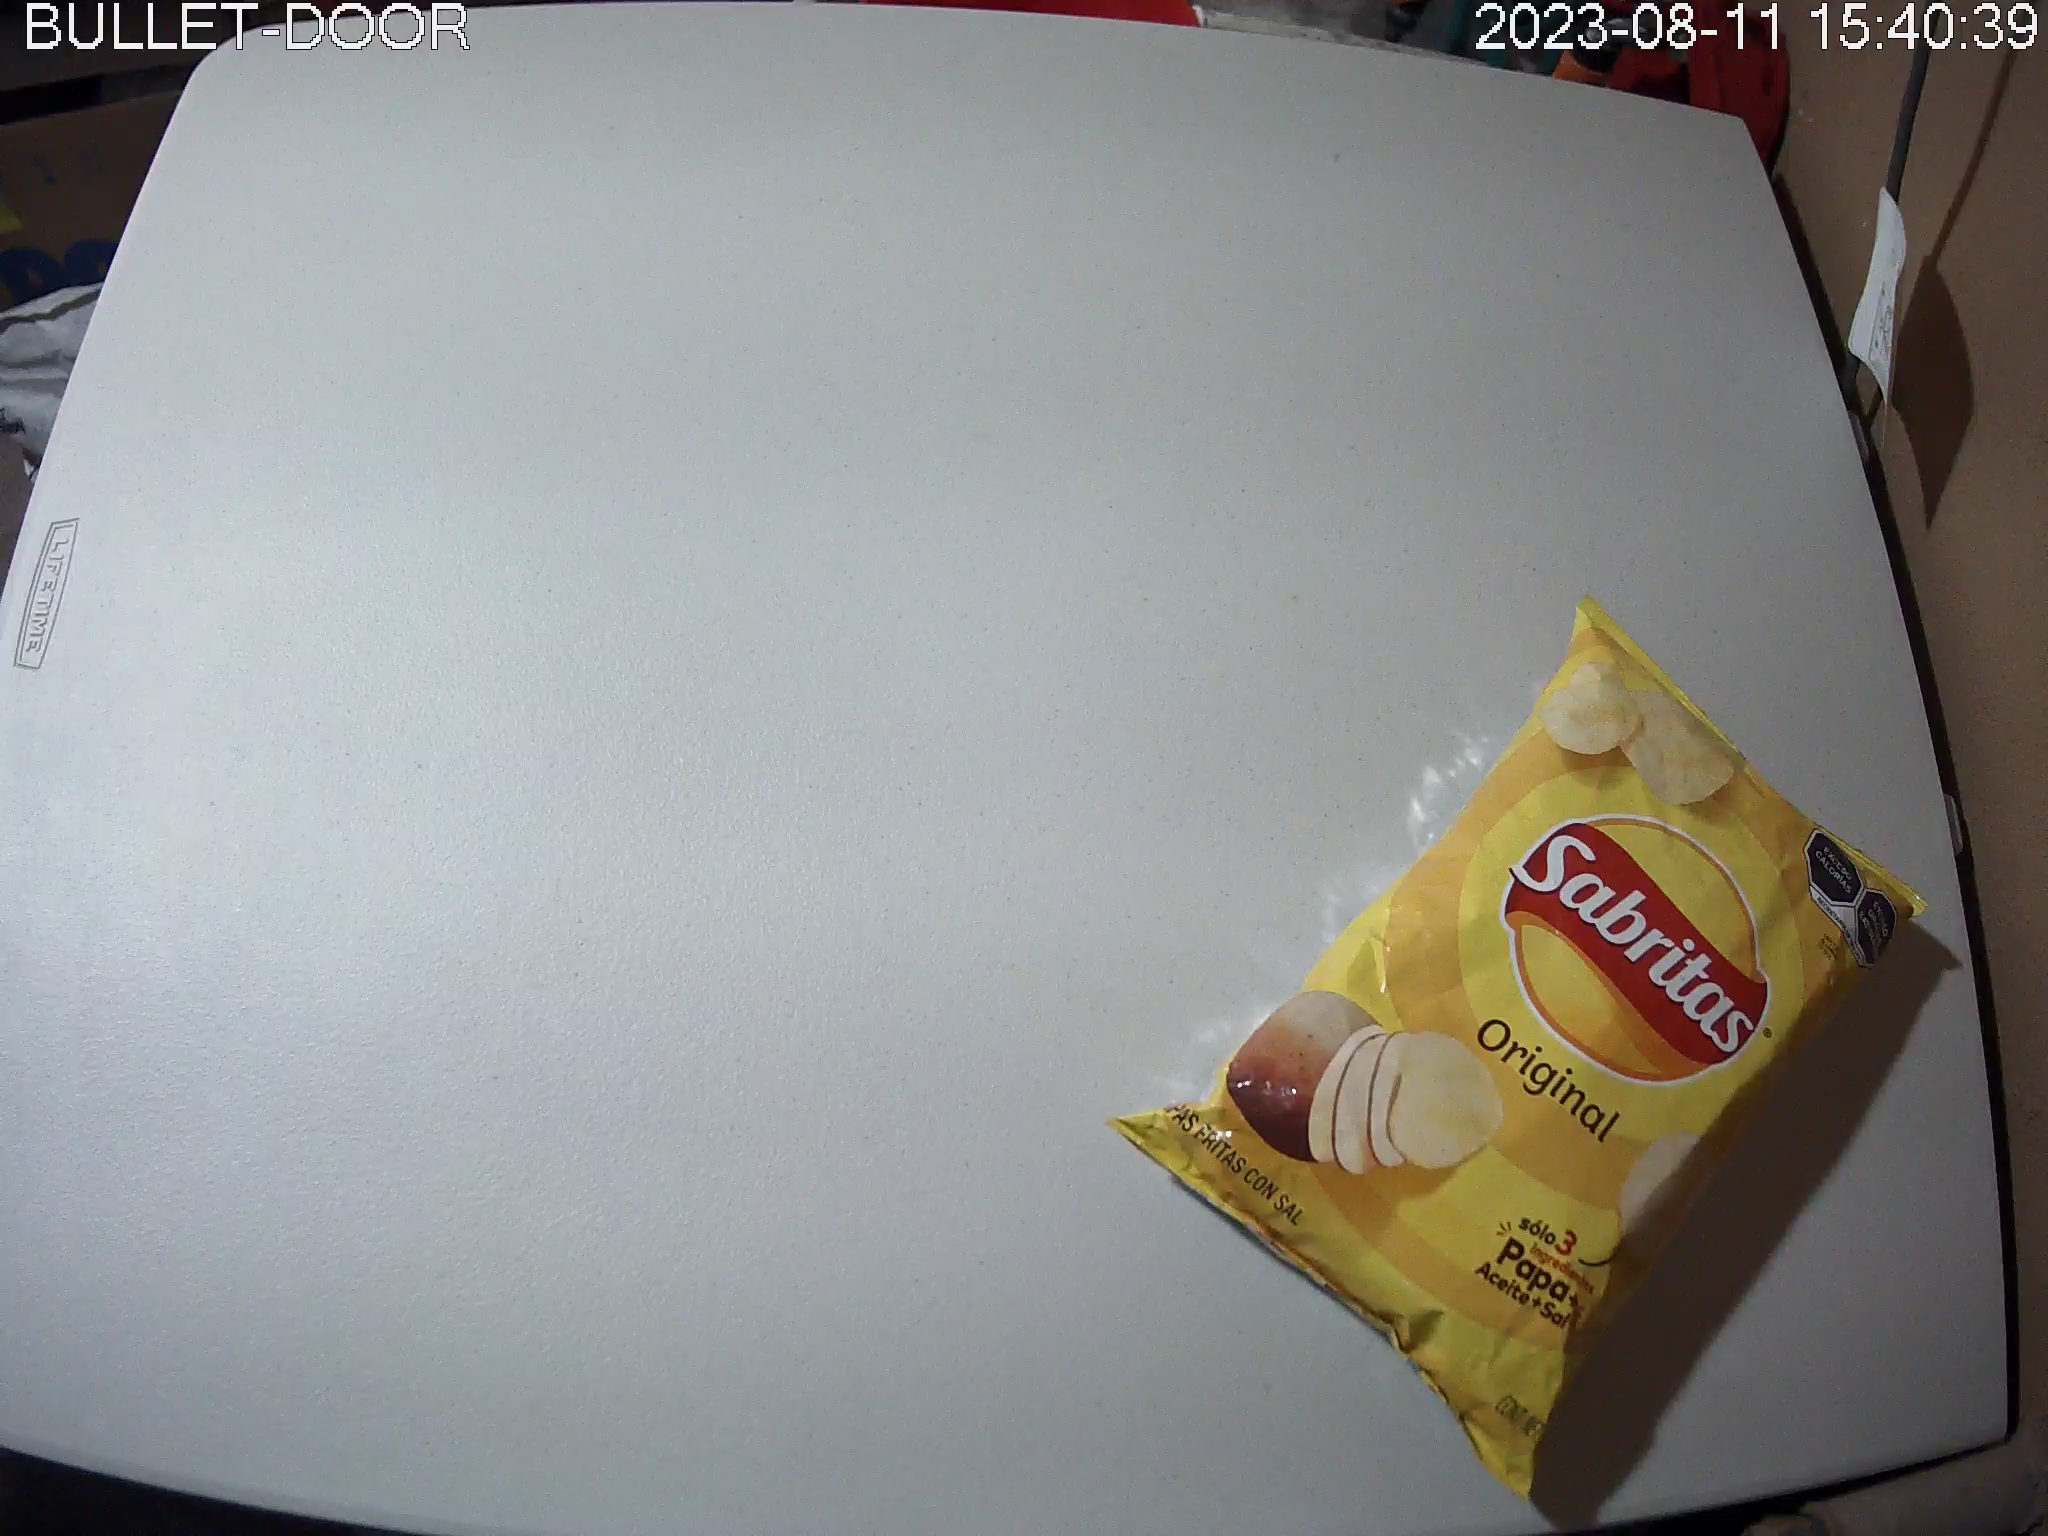Sabritas_160_F: (1106, 586, 1925, 1504)
